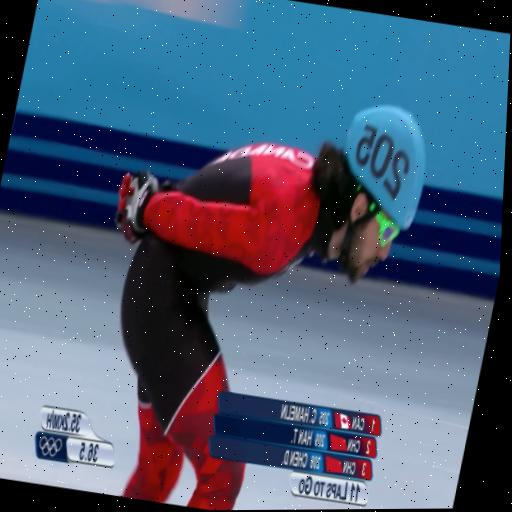Skater: (115, 106, 425, 509)
